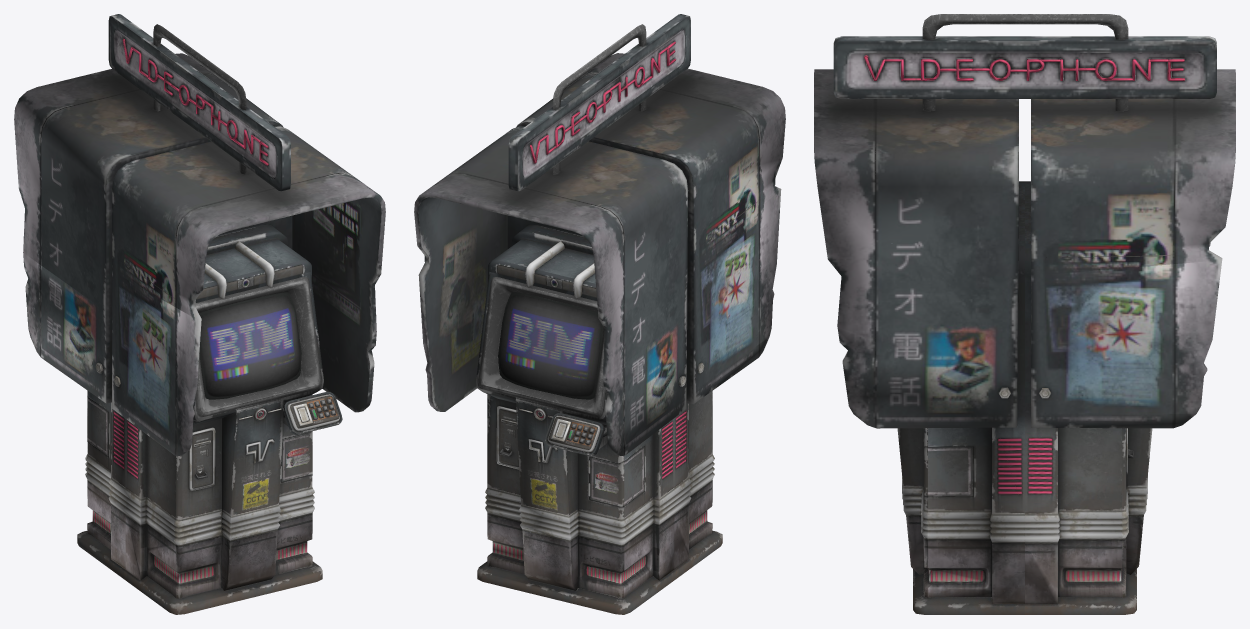
The model's file is videophone.glb.
3 renders of one model, left to right at view 1: azimuth 30°, elevation 25°; view 2: azimuth 150°, elevation 25°; view 3: azimuth 270°, elevation 25°, orthographic. The views are drawn at different scales.
Visible parts, largest first — view 1: Object001; view 2: Object001; view 3: Object001.
Boxes of the visible parts, bbox=[...] form: Object001: bbox=[14, 14, 385, 614]; Object001: bbox=[414, 14, 785, 614]; Object001: bbox=[814, 14, 1235, 614].
Size of the model in its own units: 0.7652 by 2 by 1.37.
1 material, 1 textured.
